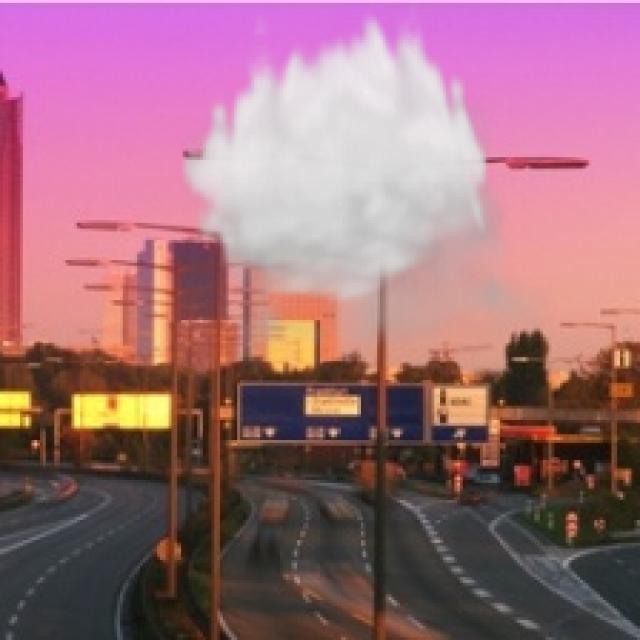Smoke: (177, 6, 557, 374)
